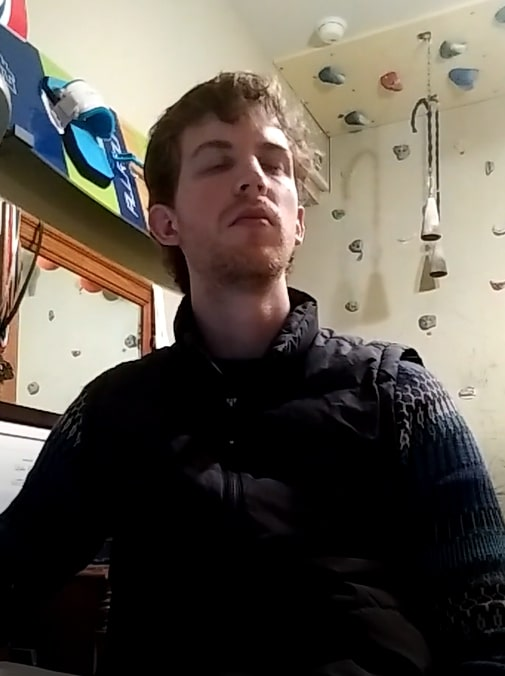Sleeping: (185, 145, 296, 184)
